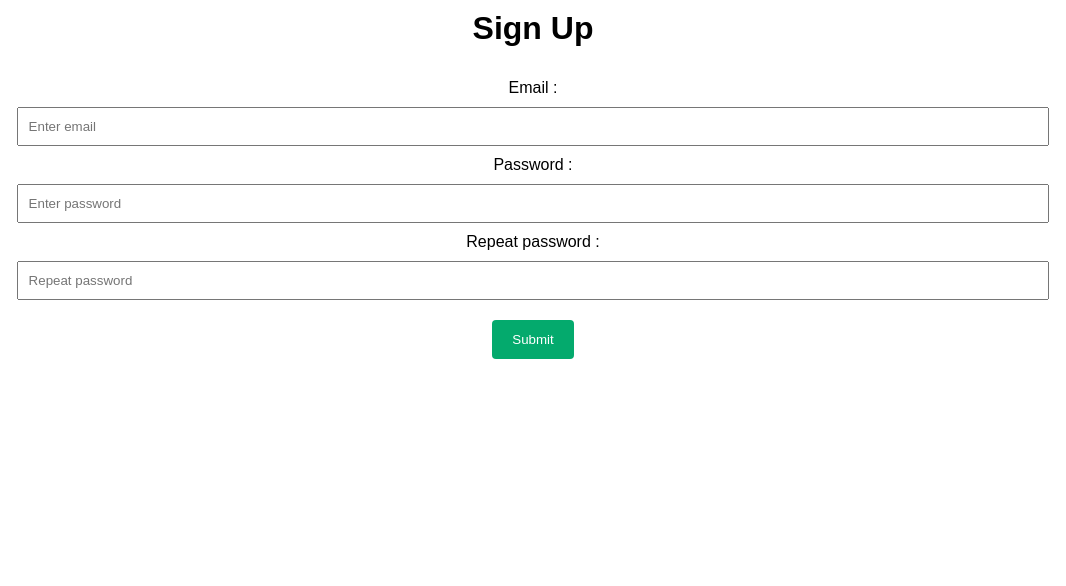
Test: Signup › should display an error message when email is not valid
Step 1. Type "abc" into the field with test id "email" → (533, 126), box [17,107,1049,146]
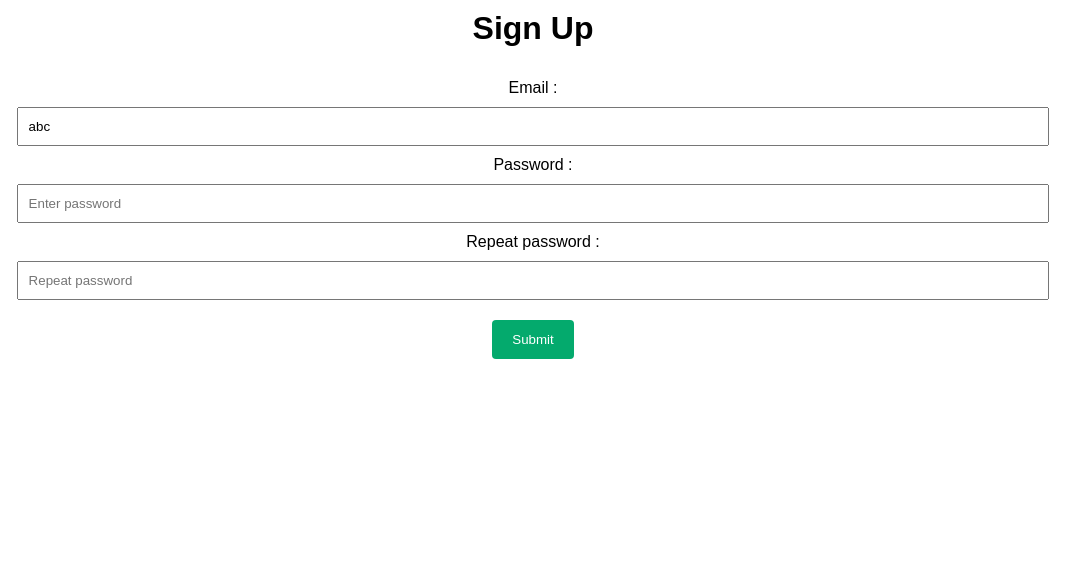
Step 2. Click the button with test id "submit" → (533, 339), box [492,320,574,359]
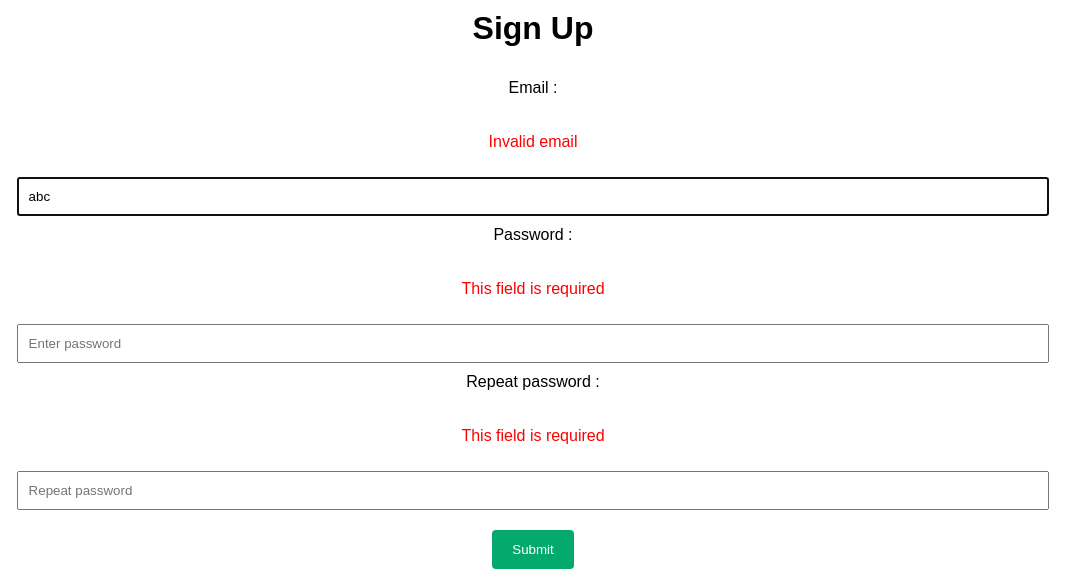
Check: the text "Invalid email" is shown, box [488,133,577,150]
